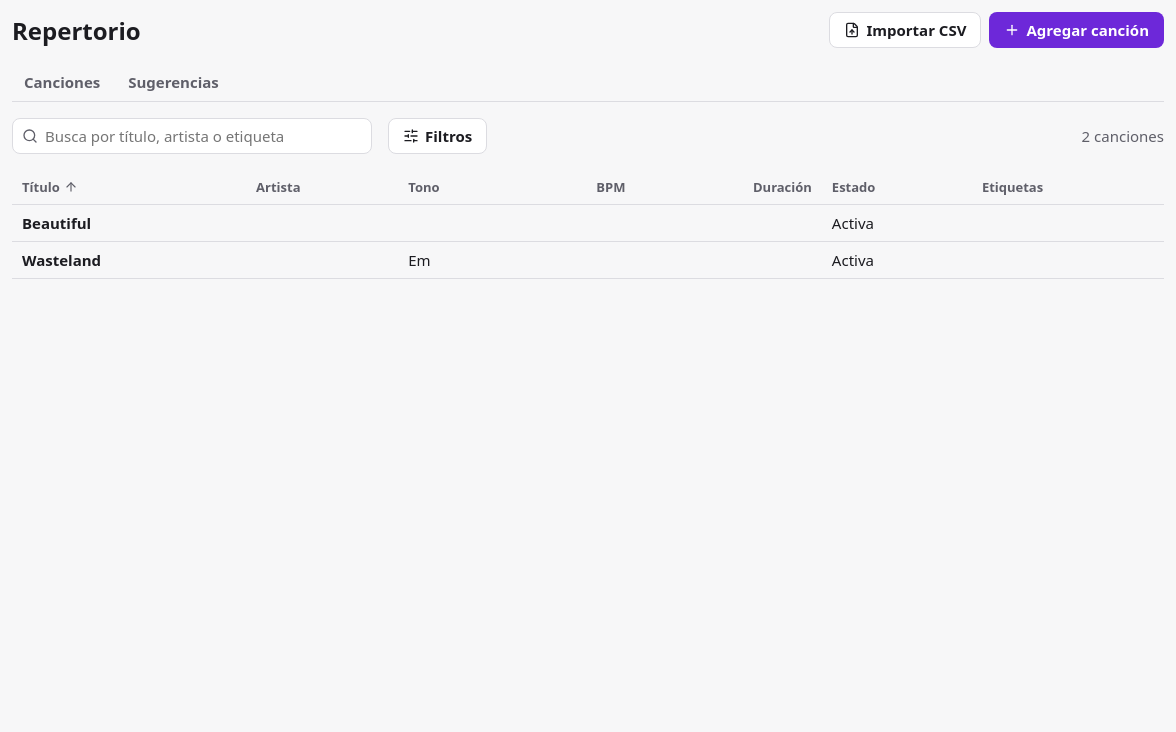
Test: LibraryPage › shows when and where a song was played, most recent first
Click the button "Wasteland" at coordinates (62, 260), box [22,250,101,270]
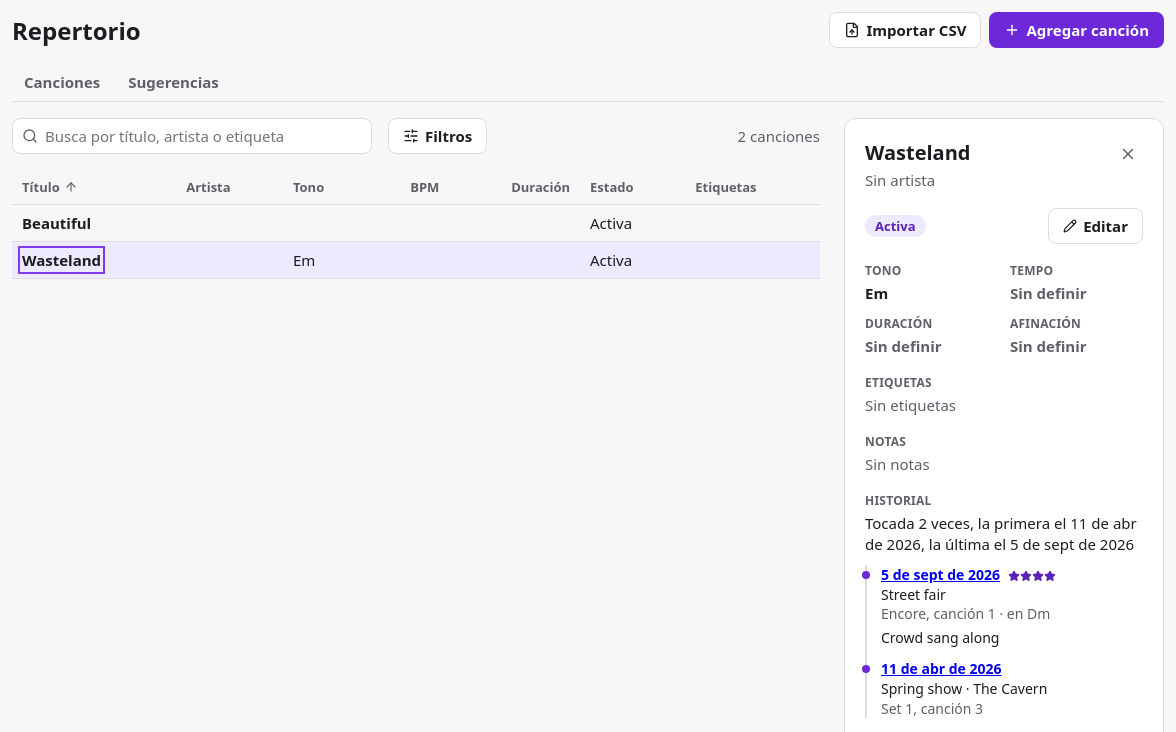
Check: the text "Tocada 2 veces" is shown, box [865,513,1143,555]
Check: the number of list items is 2, box [881,565,1056,647]; [881,659,1047,718]
Check: the list item that starts with "5 de sept de 2026" shows "Street fair", box [881,585,946,604]
Click the button "Beautiful" at coordinates (57, 223), box [22,213,91,233]
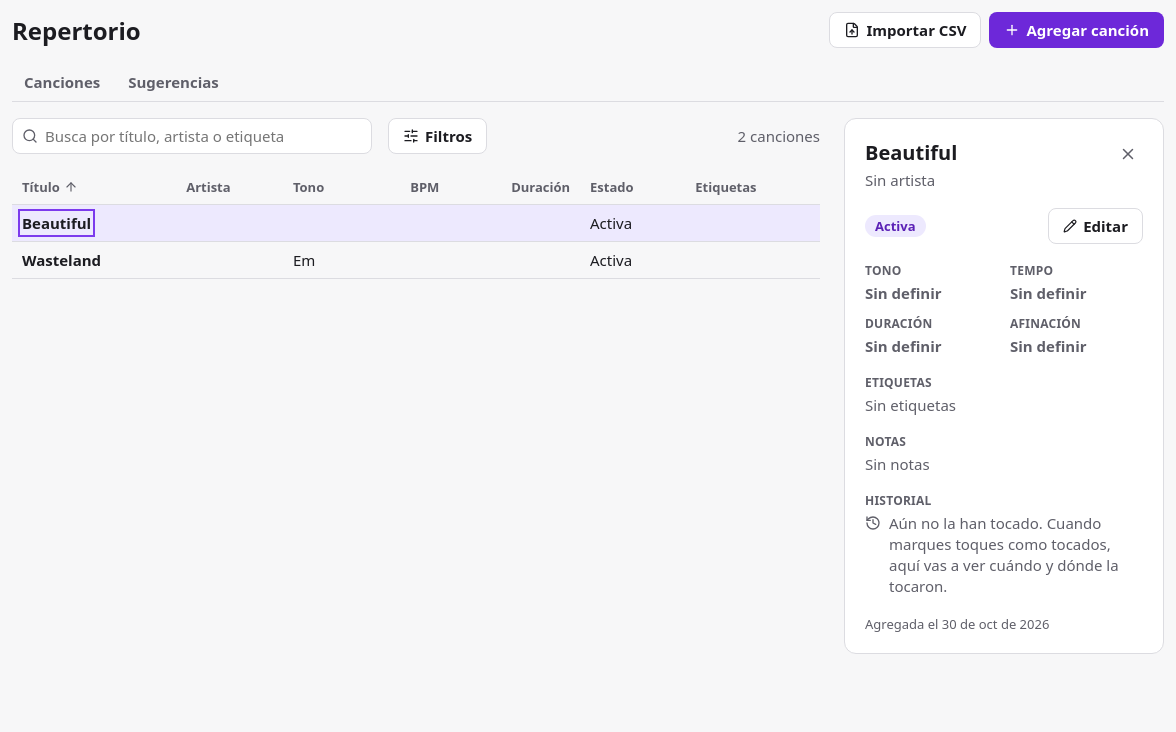
Check: the text "Aún no la han tocado" is shown, box [889,513,1119,596]
